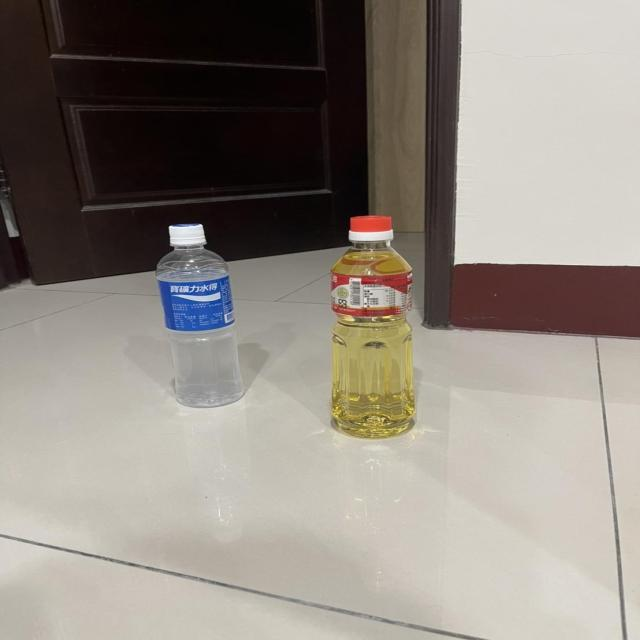bottle: (321, 210, 424, 439), (152, 215, 254, 412)
